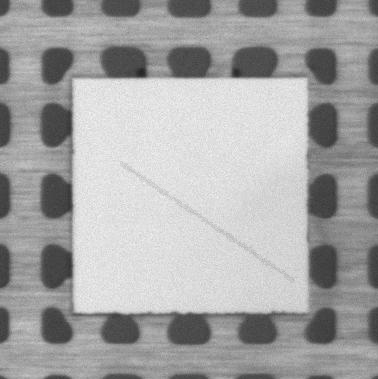DIE_CRACK: (121, 163, 292, 281)
